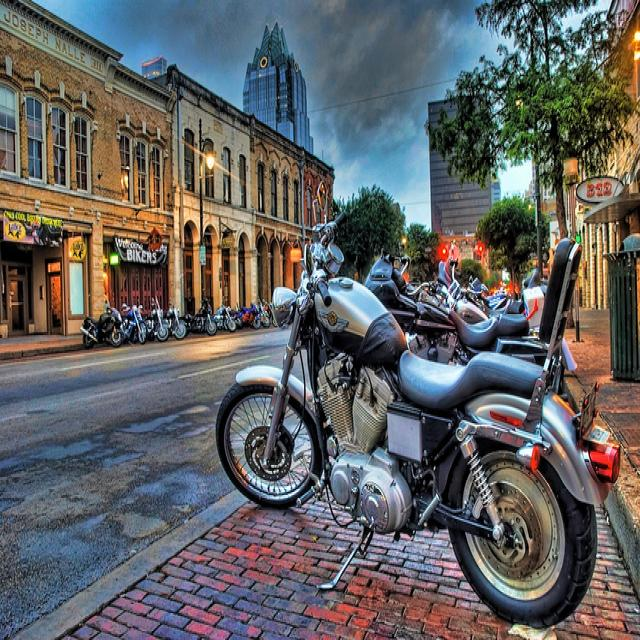motor: (215, 211, 621, 631), (365, 248, 548, 370), (447, 254, 527, 316), (79, 303, 125, 350), (180, 288, 216, 335), (122, 301, 149, 345), (144, 296, 168, 341), (230, 301, 261, 330), (212, 301, 237, 334), (162, 309, 187, 340)
